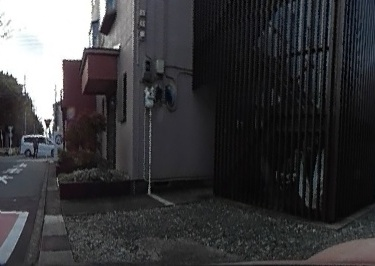person: (30, 135, 39, 156)
